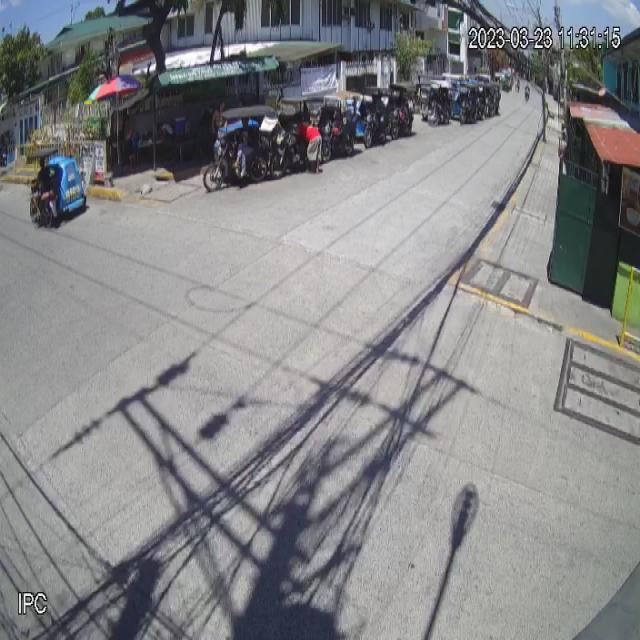Tricycle: (26, 148, 86, 226)
